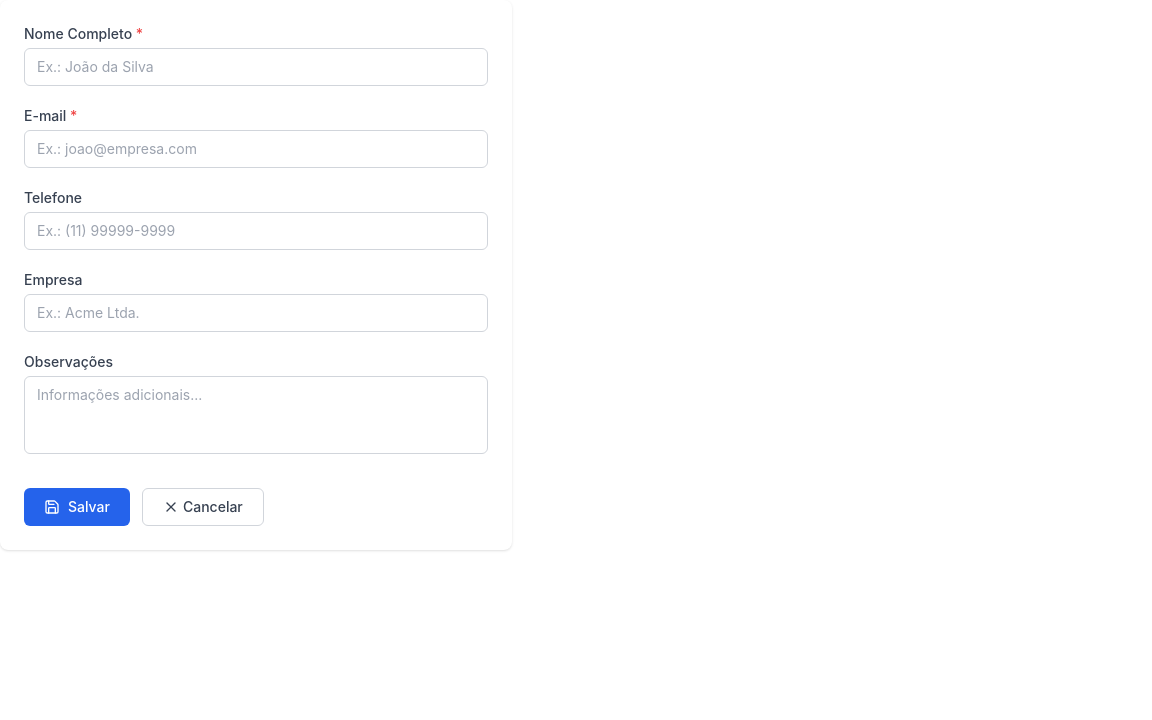
Test: ContatoForm — cancelar e modal "alterações não salvas" › "Continuar editando" fecha o modal sem navegar
The width and height of the screenshot is (1152, 720).
Type "A" into the field labelled "Nome Completo *" at (256, 67), box [24,48,488,86]
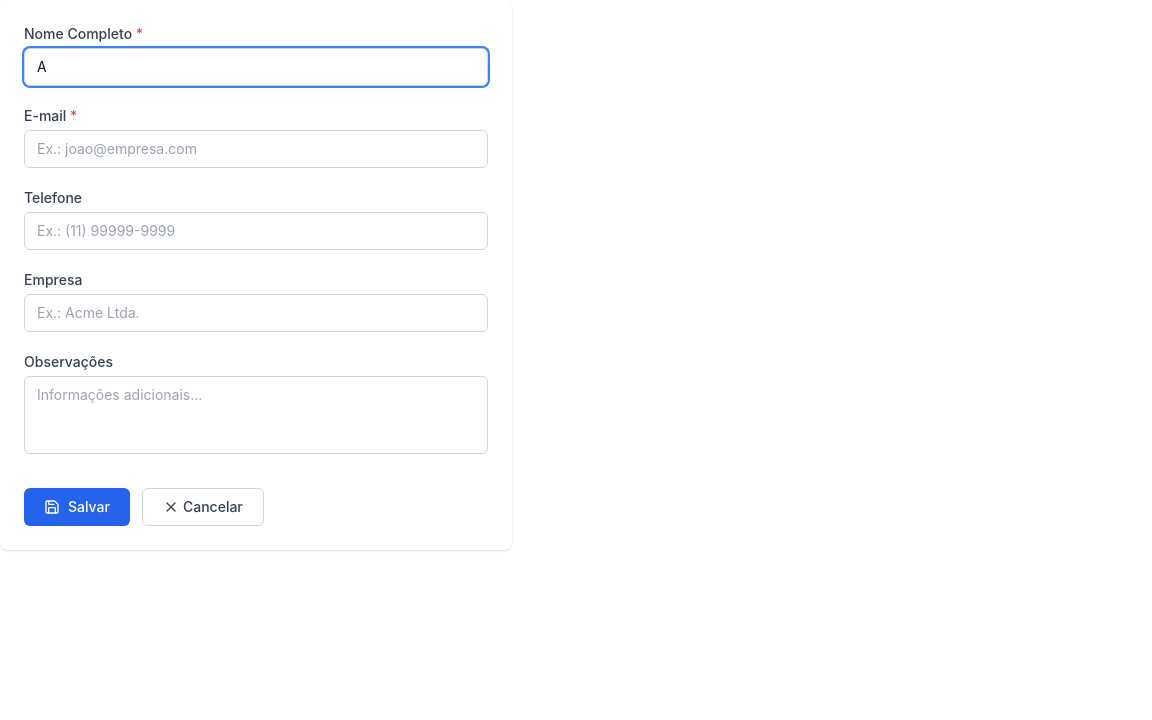
Click the button "Cancelar" at (203, 507), box [142,488,264,526]
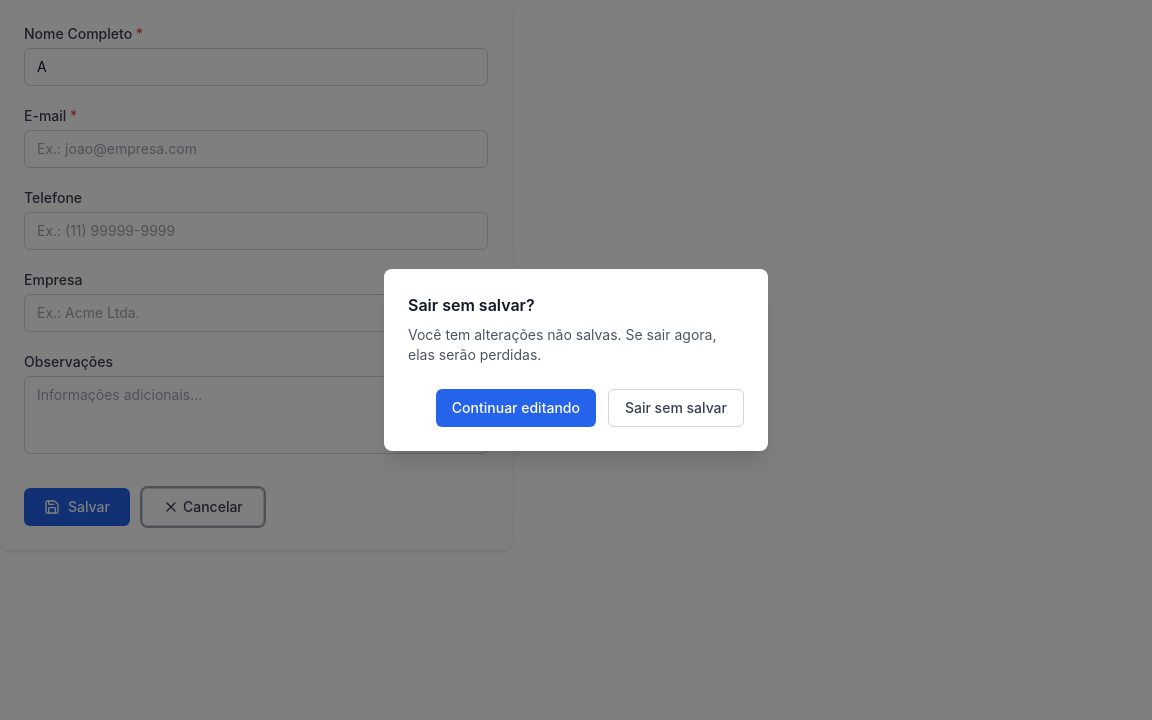
expect the dialog is shown: met
Click the button "Continuar editando" at (516, 408), box [436,389,596,427]
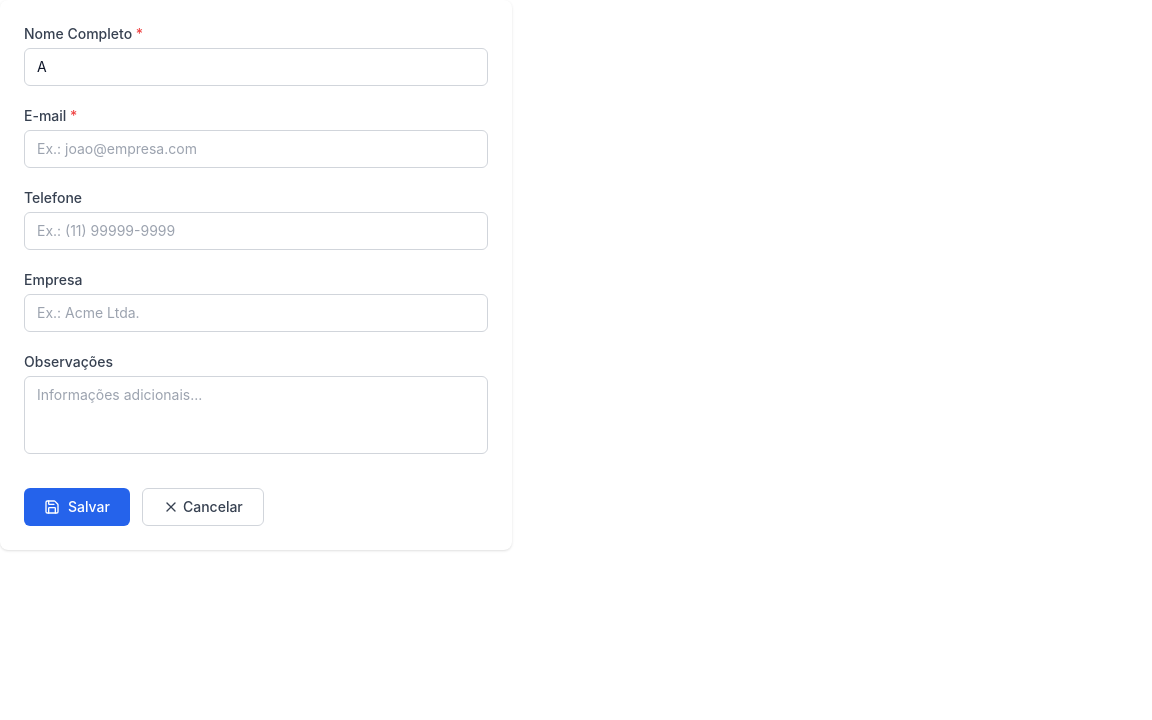
expect the dialog is gone: met
